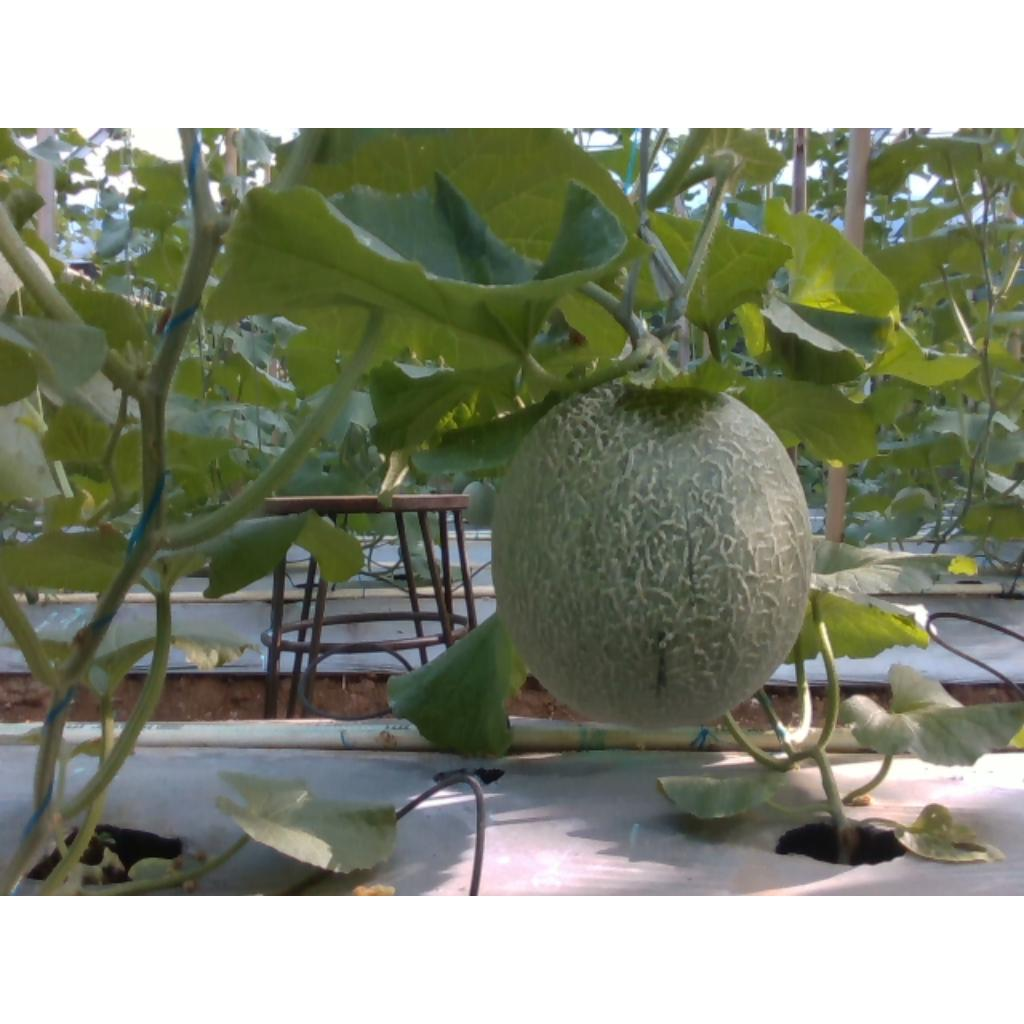melon: (494, 382, 814, 729)
